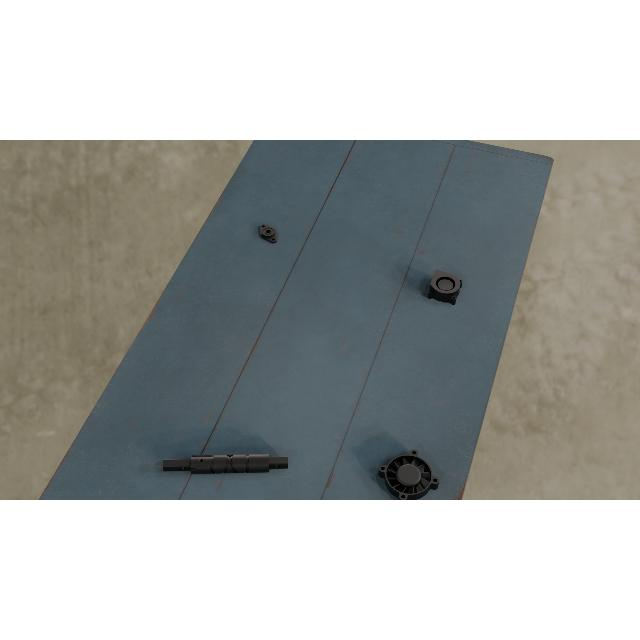Pieza1: (162, 449, 288, 478)
Pieza2: (254, 220, 282, 246)
Pieza3: (428, 270, 464, 306)
Pieza4: (376, 448, 442, 500)
